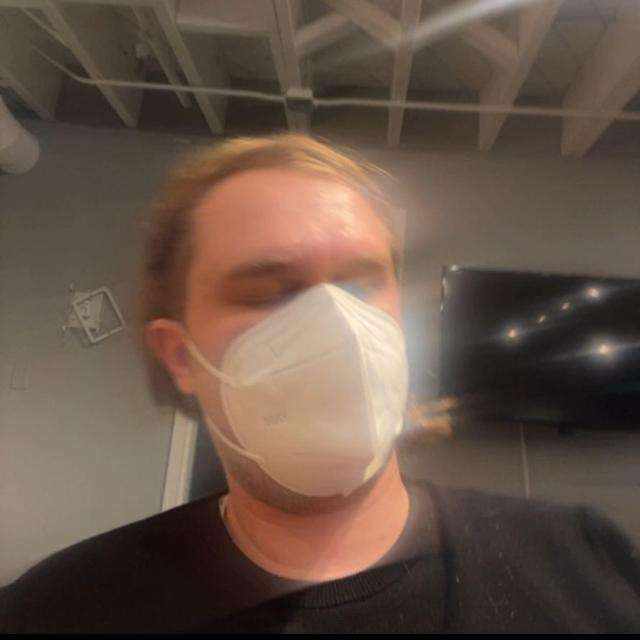no-helmet: (71, 115, 469, 569)
